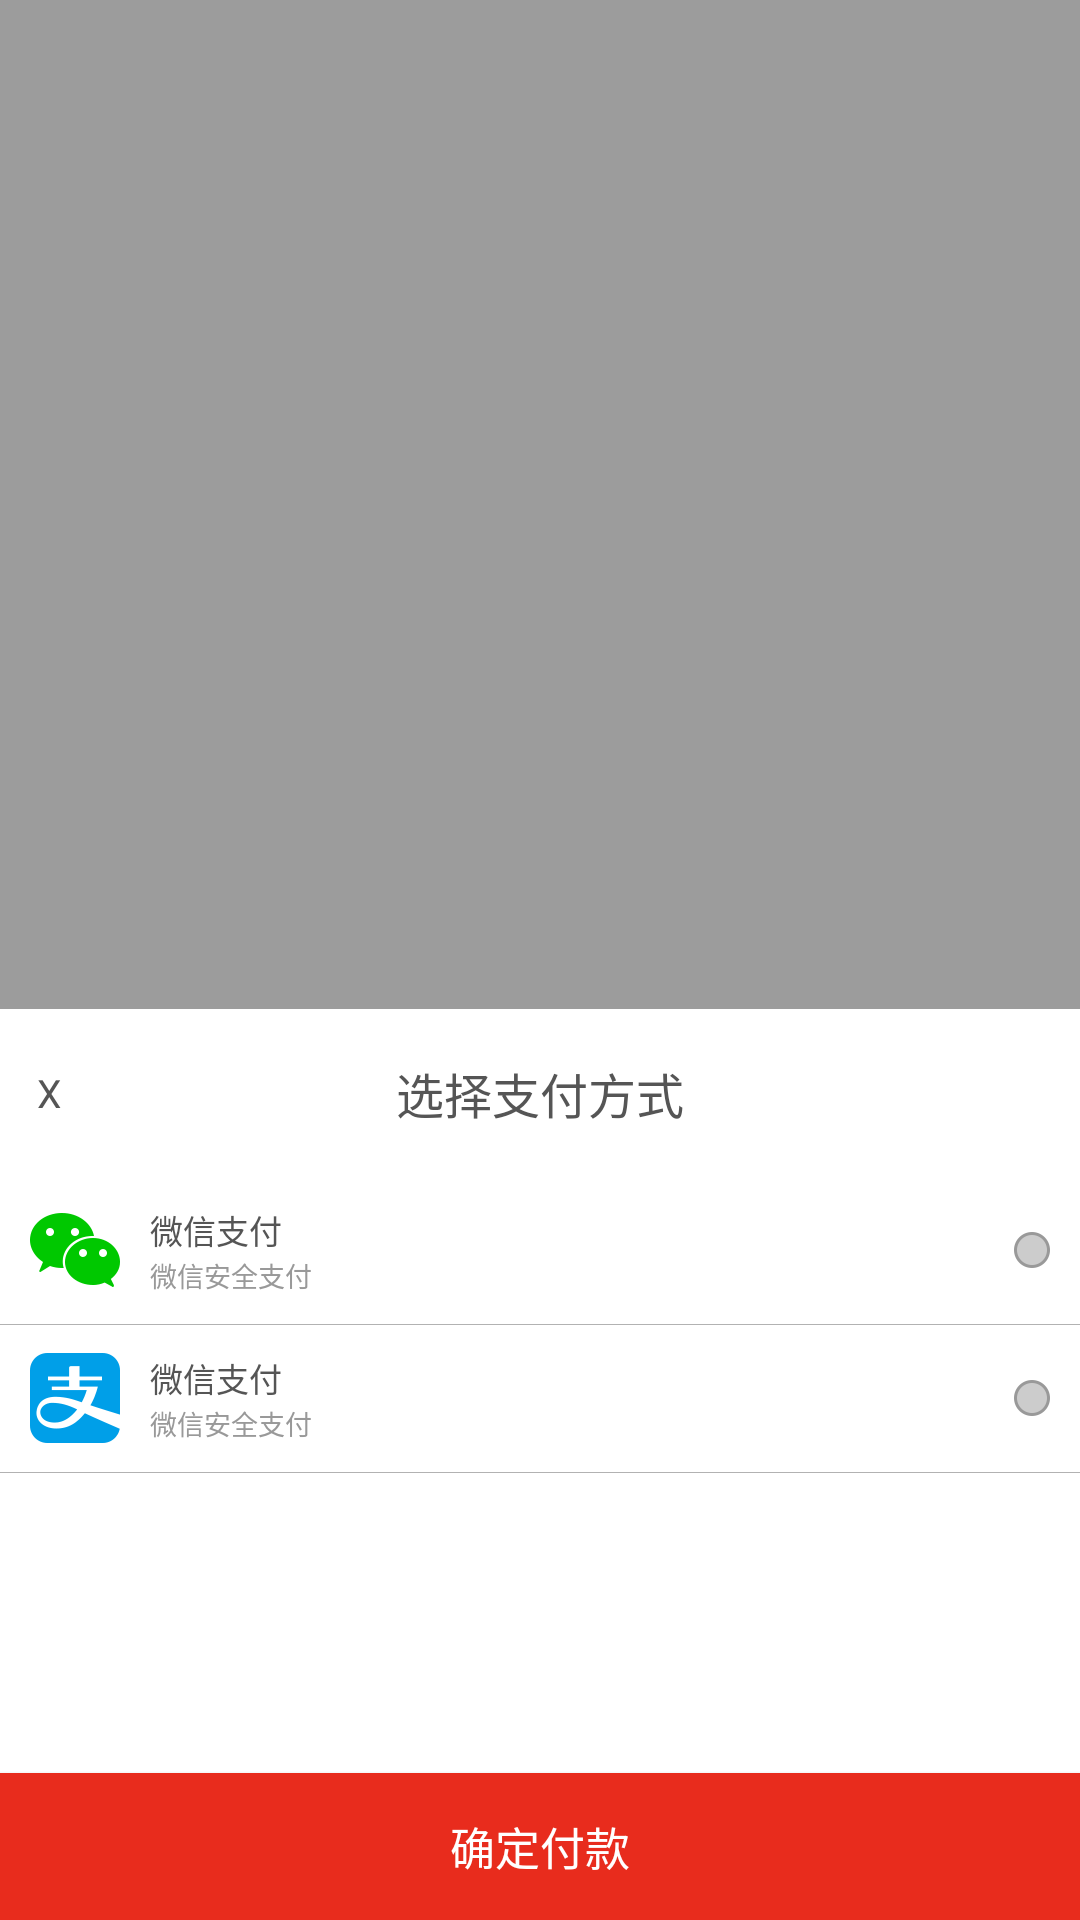

Where to tap for icons on this 1080*1920 app screen, as (x=x, y=y):
check bor nor: (x=1032, y=1250), (x=1032, y=1398)
